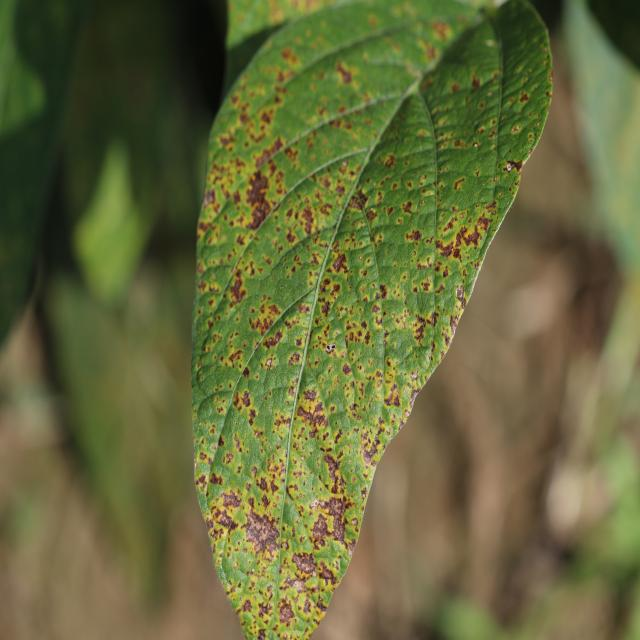Bacterial_Blight: (538, 112, 594, 197), (464, 192, 508, 278), (243, 506, 280, 558), (360, 50, 418, 73), (271, 607, 311, 640), (253, 135, 285, 167), (297, 399, 327, 433), (349, 181, 373, 213), (246, 171, 269, 203), (322, 451, 341, 488), (228, 270, 247, 306), (310, 515, 331, 546), (298, 203, 317, 234), (317, 560, 337, 583), (273, 411, 292, 434), (262, 330, 283, 350), (437, 238, 456, 260), (221, 491, 242, 510), (336, 61, 352, 85), (331, 252, 348, 274), (386, 383, 401, 407), (281, 47, 299, 66), (504, 159, 524, 175), (362, 445, 376, 466), (408, 389, 420, 412), (195, 472, 208, 492), (405, 228, 422, 243), (258, 601, 272, 619), (202, 189, 215, 208), (239, 389, 252, 408), (290, 578, 307, 592), (512, 173, 523, 194), (209, 472, 223, 487), (420, 276, 432, 293), (304, 388, 318, 402), (257, 476, 269, 492), (453, 177, 466, 191), (449, 315, 458, 335), (383, 154, 395, 169), (455, 285, 466, 301), (329, 283, 341, 297), (402, 200, 413, 215), (289, 351, 301, 364), (309, 498, 320, 512), (519, 90, 530, 104), (285, 231, 296, 245), (346, 542, 355, 558), (379, 284, 388, 300), (242, 599, 253, 612), (342, 362, 352, 376), (471, 76, 481, 89), (325, 342, 336, 353), (430, 312, 438, 327), (363, 330, 371, 345), (211, 539, 218, 555), (442, 265, 450, 279), (257, 628, 267, 639), (454, 139, 465, 149), (199, 451, 209, 462), (485, 38, 497, 47), (410, 371, 418, 381), (266, 357, 273, 368), (211, 440, 217, 452), (492, 175, 499, 183), (341, 160, 348, 168), (198, 420, 204, 429), (232, 560, 238, 569), (249, 562, 255, 571), (472, 141, 479, 148), (194, 459, 198, 471), (428, 353, 433, 362), (372, 180, 377, 188), (528, 147, 533, 154)
Soybean: (192, 2, 552, 640)
